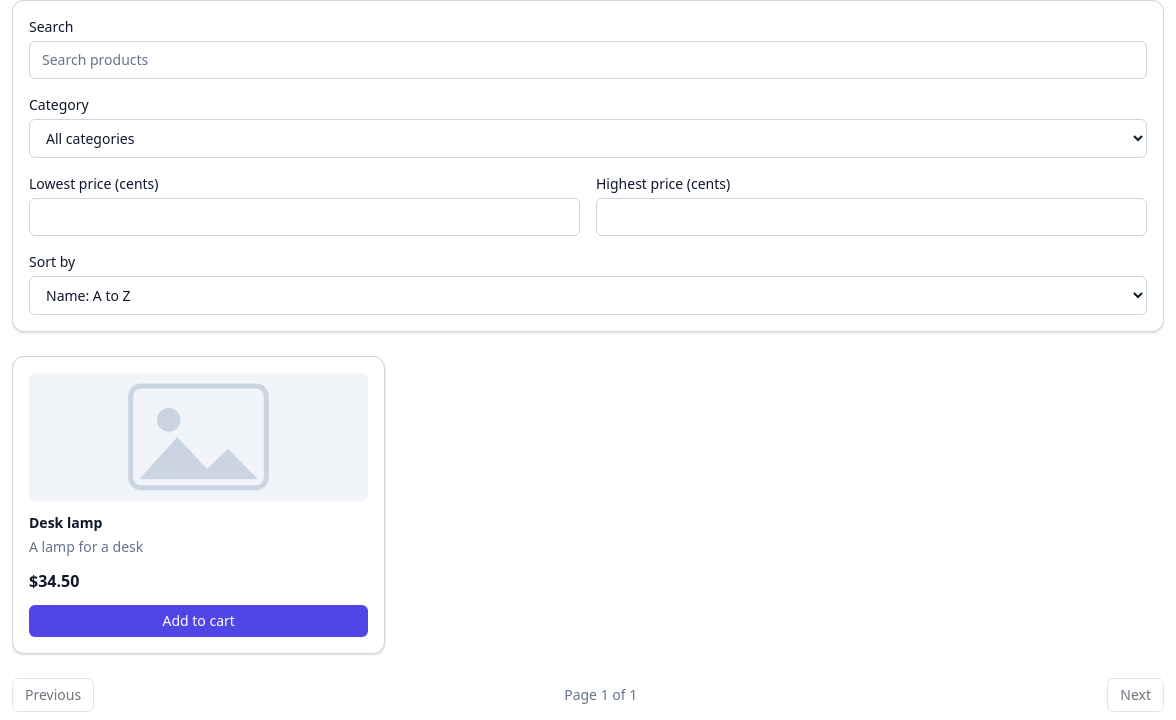
Test: Catalogue › says the add is under way while it is, and will not send it twice
Expected: the heading "Desk lamp" is shown, [29, 513, 102, 532]
Click the button "Add to cart".
click(199, 621)  # box [29, 605, 368, 637]
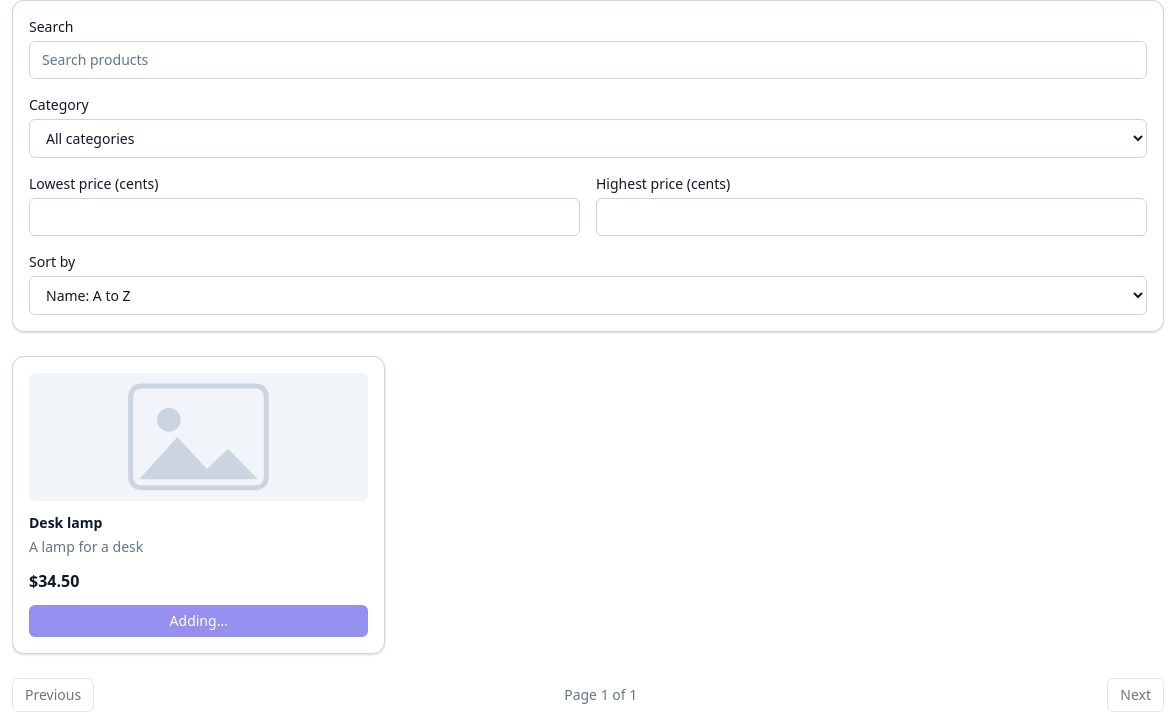
Now the button "Adding…" is disabled
Click the button "Adding…".
click(199, 621)  # box [29, 605, 368, 637]
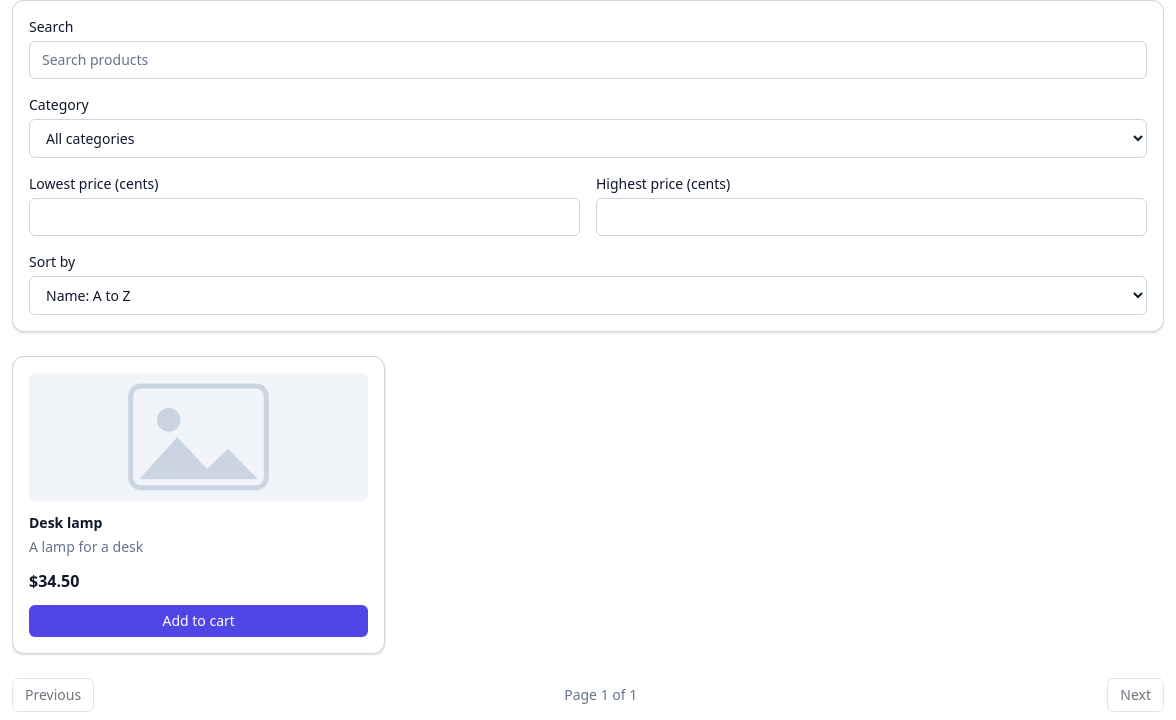
Now the button "Add to cart" is enabled, box [29, 605, 368, 637]
